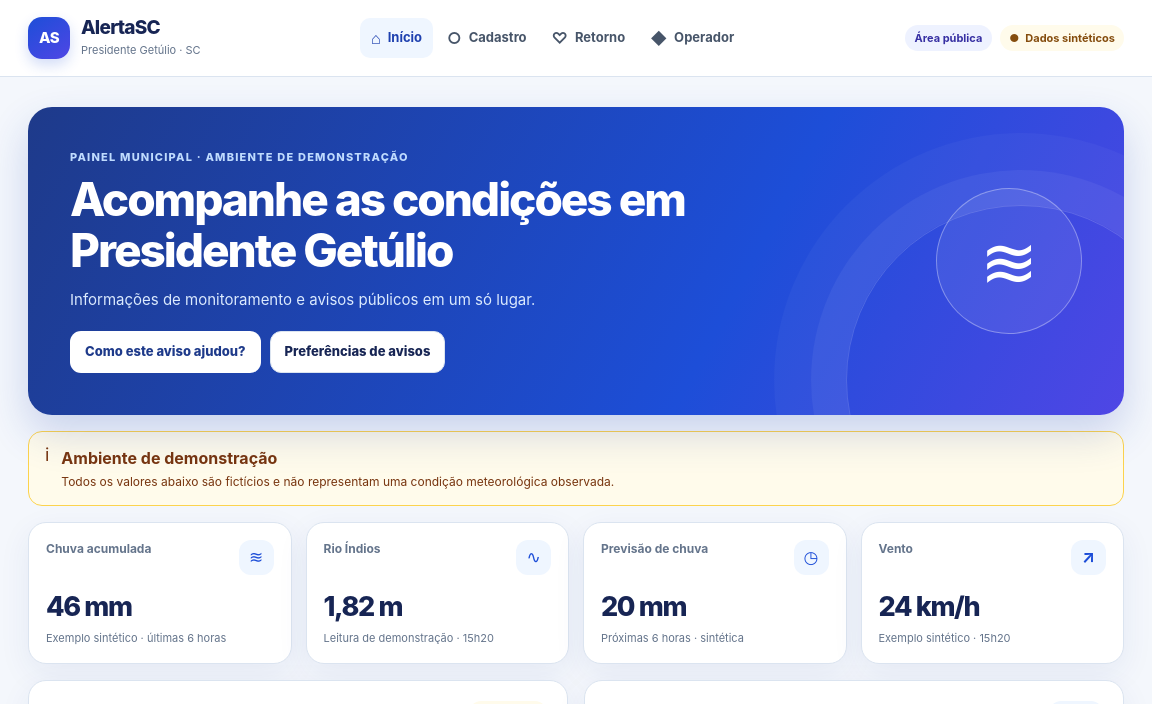
Test: AlertaSC application navigation › lets a visitor open citizen preferences and return to the public dashboard
Click the button "Preferências de avisos" at (358, 352), box x1=270 y1=331 x2=445 y2=373
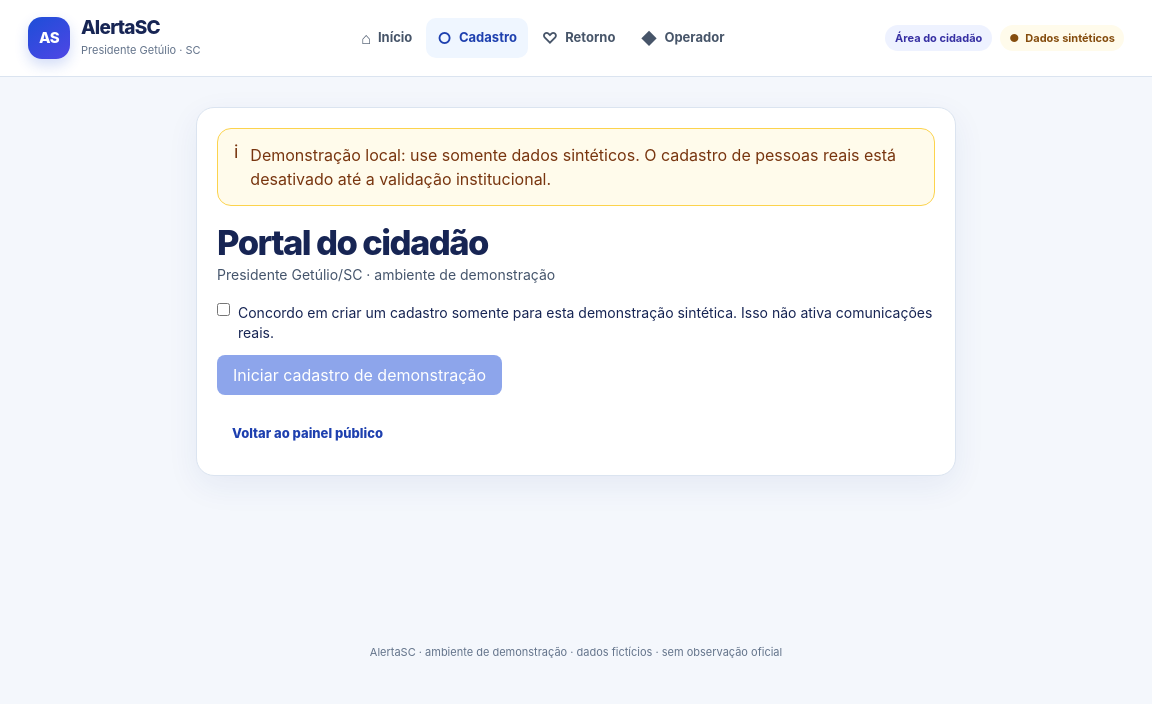
Now the heading "Portal do cidadão" is shown, box x1=217 y1=222 x2=488 y2=263
Click the button "Voltar ao painel público" at (307, 434), box x1=217 y1=413 x2=398 y2=455
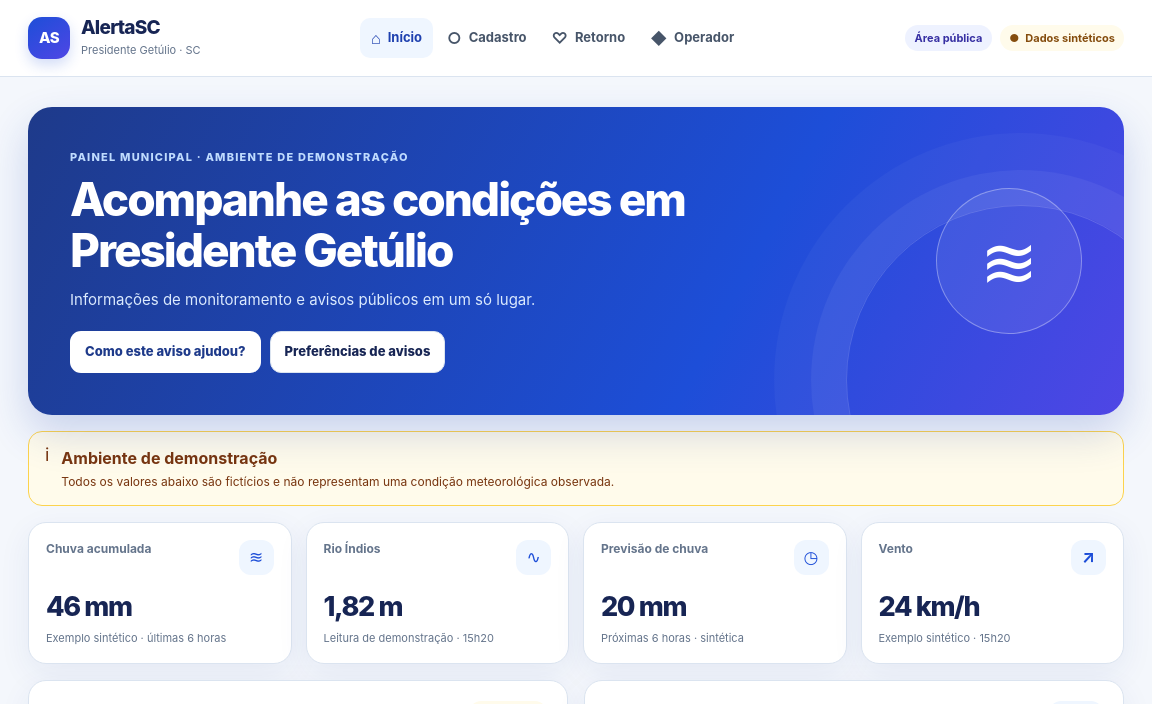
Now the heading "Acompanhe as condições em Presidente Getúlio" is shown, box x1=70 y1=174 x2=734 y2=276
